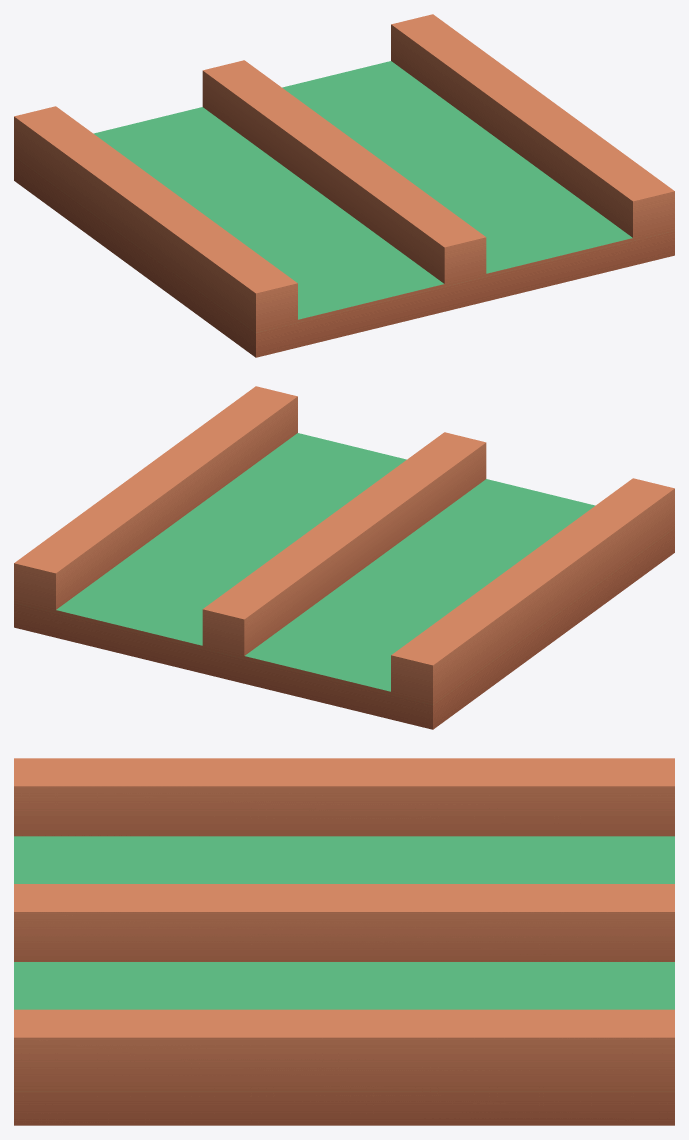
File: split.glb
3 renders of one model, top to bottom at view 1: azimuth 30°, elevation 25°; view 2: azimuth 150°, elevation 25°; view 3: azimuth 270°, elevation 25°, orthographic. The views are drawn at different scales.
Visible parts, largest first — view 1: split; view 2: split; view 3: split.
Part boxes in pixels (x1,y1,x2,y2): split: (14,14,674,357); split: (14,386,674,729); split: (14,758,674,1125).
Bounding box in the file's own units: 0.9999 × 0.1467 × 0.9999.
1 material, 1 textured.
